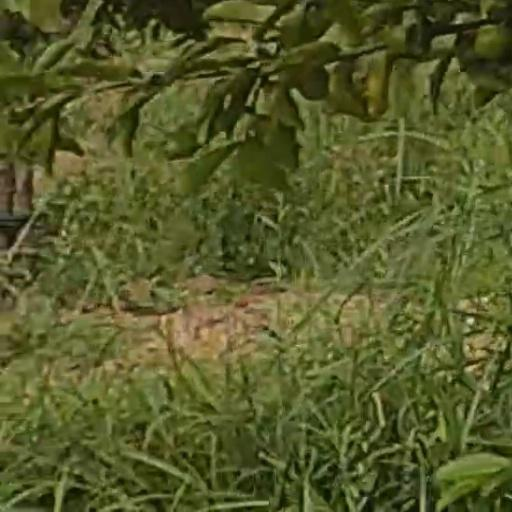acerola_verde: (474, 23, 508, 59)
